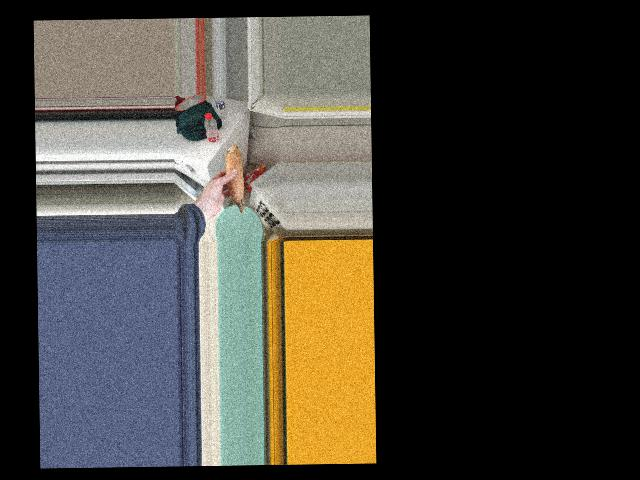sweet_potato: (221, 142, 248, 212)
